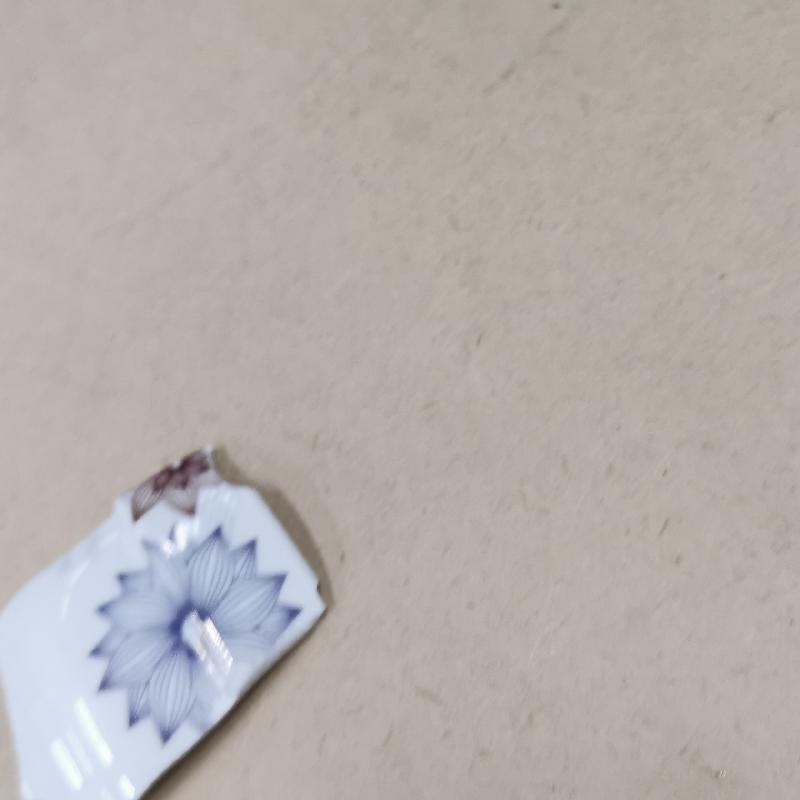ceram: (4, 440, 334, 791)
